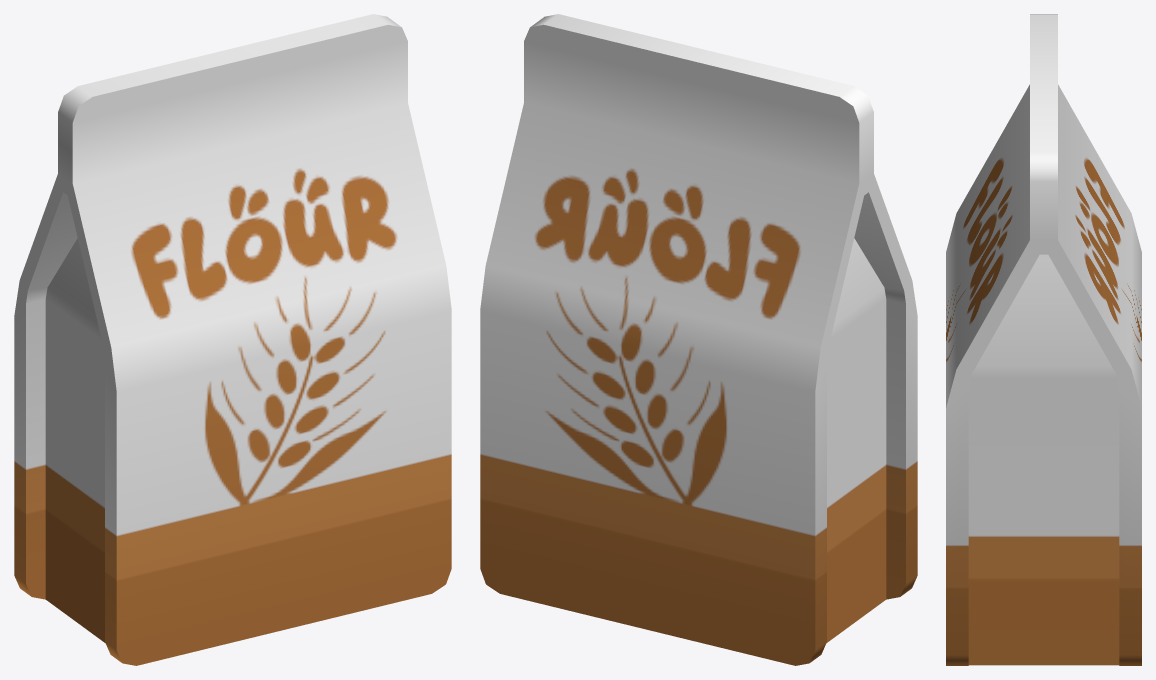
The model's file is Packet_Flour_01.fbx.
The picture shows the model from 3 angles, left to right: view 1: azimuth 30°, elevation 25°; view 2: azimuth 150°, elevation 25°; view 3: azimuth 270°, elevation 25°; orthographic projection. The views are drawn at different scales.
Parts seen in each view (by area): view 1: Packet_Flour_01; view 2: Packet_Flour_01; view 3: Packet_Flour_01.
Part boxes in pixels (x1,y1,x2,y2): Packet_Flour_01: (14,14,451,665); Packet_Flour_01: (480,14,917,665); Packet_Flour_01: (946,14,1141,665).
Bounding box in the file's own units: 55.25 × 84.6 × 29.27.
